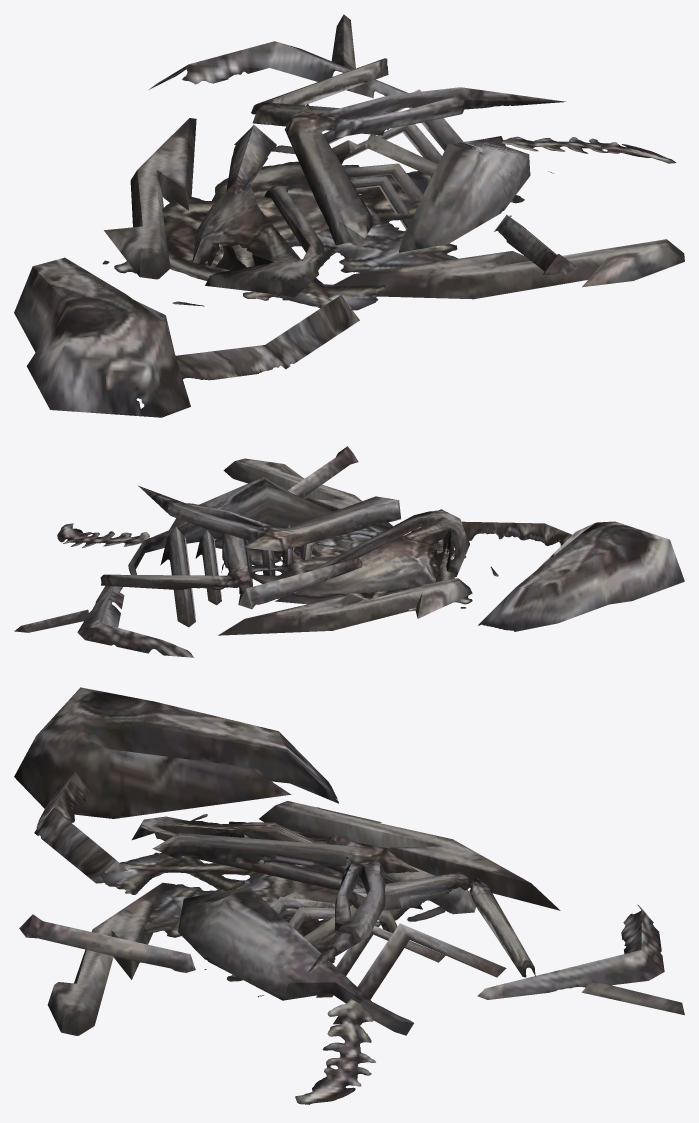
The model's file is 2_PSD_DaNiaoGuJia_01.FBX.
The picture shows the model from 3 angles, top to bottom: view 1: azimuth 30°, elevation 25°; view 2: azimuth 150°, elevation 25°; view 3: azimuth 270°, elevation 25°; orthographic projection. The views are drawn at different scales.
Parts seen in each view (by area): view 1: 2_PSD_DaNiaoGuJia_01; view 2: 2_PSD_DaNiaoGuJia_01; view 3: 2_PSD_DaNiaoGuJia_01.
Part boxes in pixels (x1,y1,x2,y2): 2_PSD_DaNiaoGuJia_01: (14, 14, 684, 417); 2_PSD_DaNiaoGuJia_01: (14, 446, 684, 657); 2_PSD_DaNiaoGuJia_01: (14, 687, 684, 1104).
Bounding box in the file's own units: 388 × 50.82 × 309.
